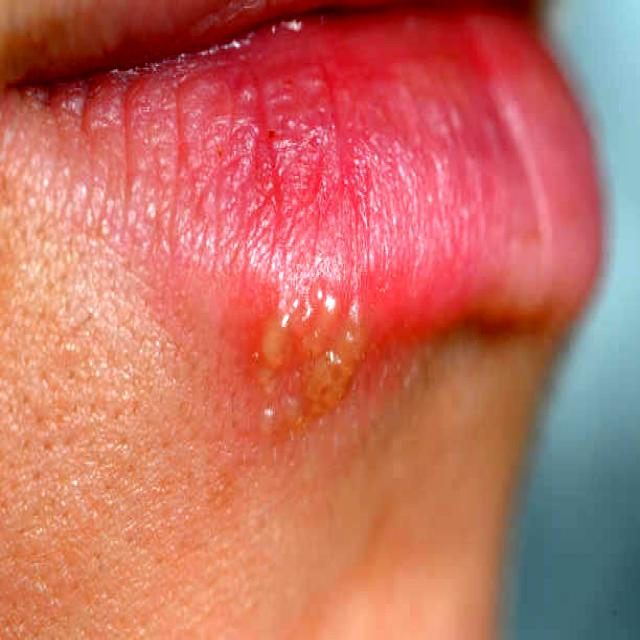ulcer: (261, 288, 365, 401)
